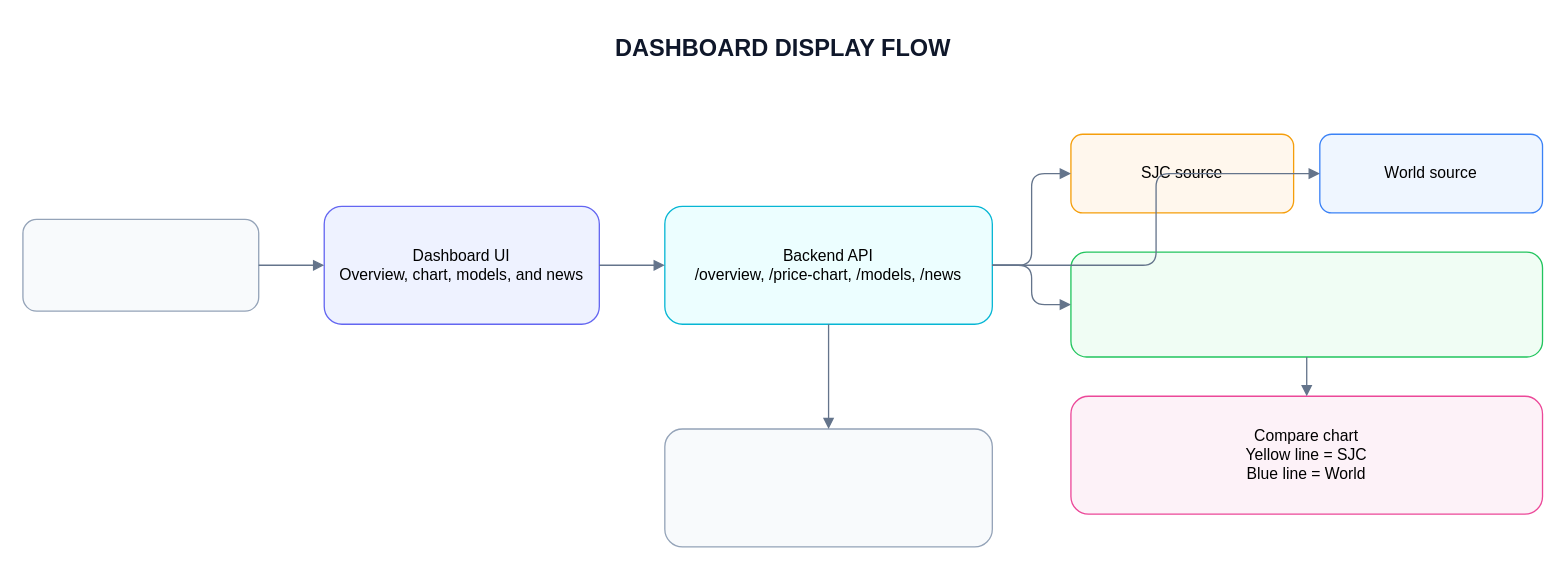
The diagram is 1565 pixels wide and 570 high, and some of its shapes have lost their labels. Each missing label, with the box of its shape:
Metrics cards Domestic, World, Gap, Last updated: (1070, 251, 1543, 357)
Supporting sections Active models, News, History, Admin: (664, 428, 992, 547)
User opens the dashboard: (22, 218, 259, 311)
